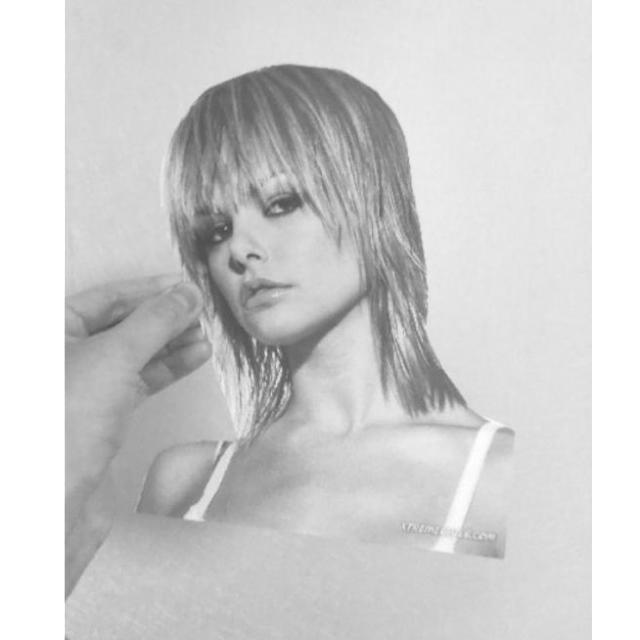fake: (124, 66, 517, 570)
